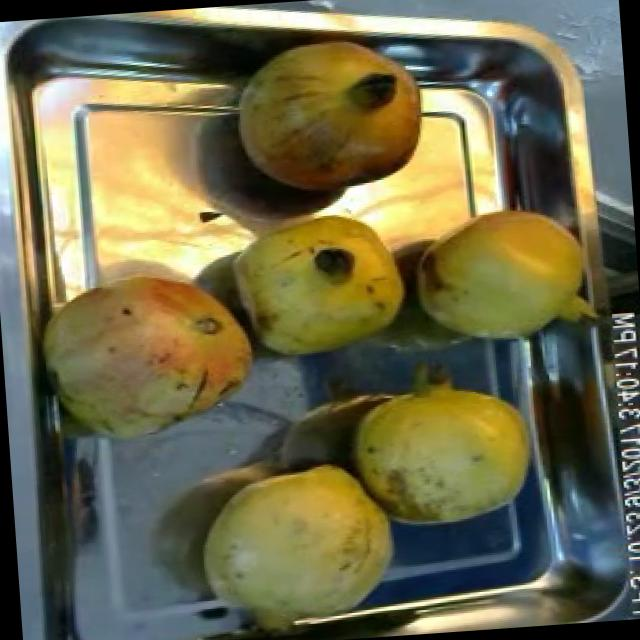fruit: (28, 258, 266, 450), (183, 449, 409, 640), (218, 26, 440, 202), (336, 364, 544, 536), (397, 193, 605, 356), (216, 198, 414, 367)
